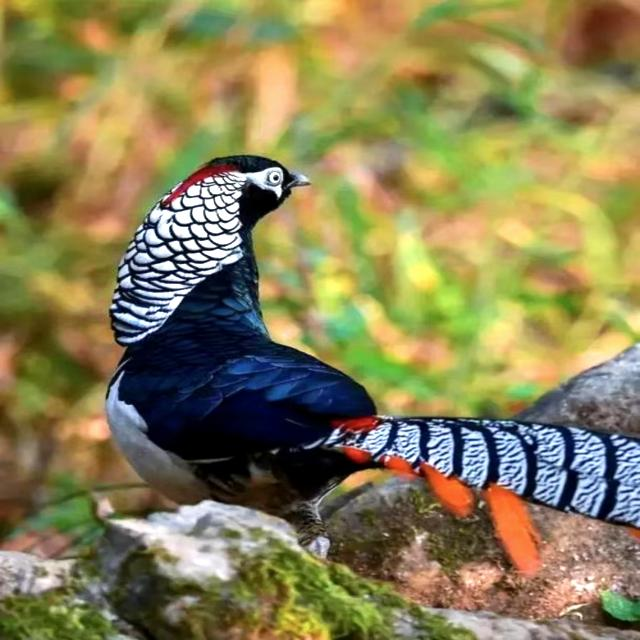Chrysolophus amherstiae: (316, 416, 639, 528)
